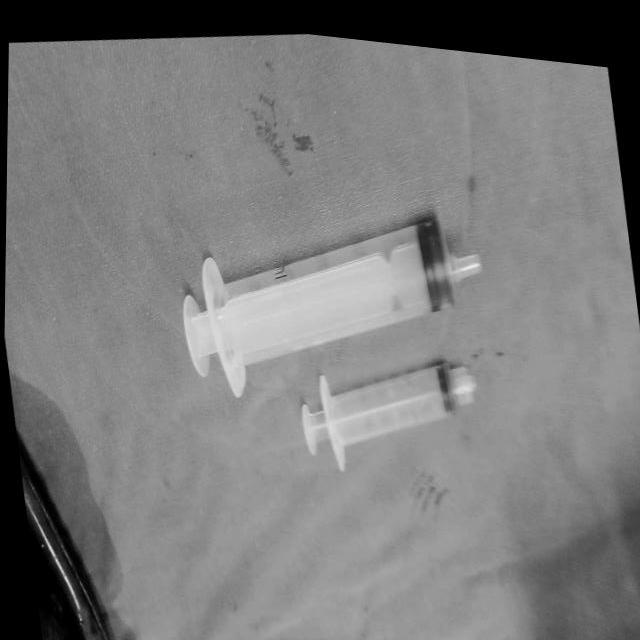Infectious: (299, 361, 477, 473)
Sharps: (180, 215, 482, 398)
